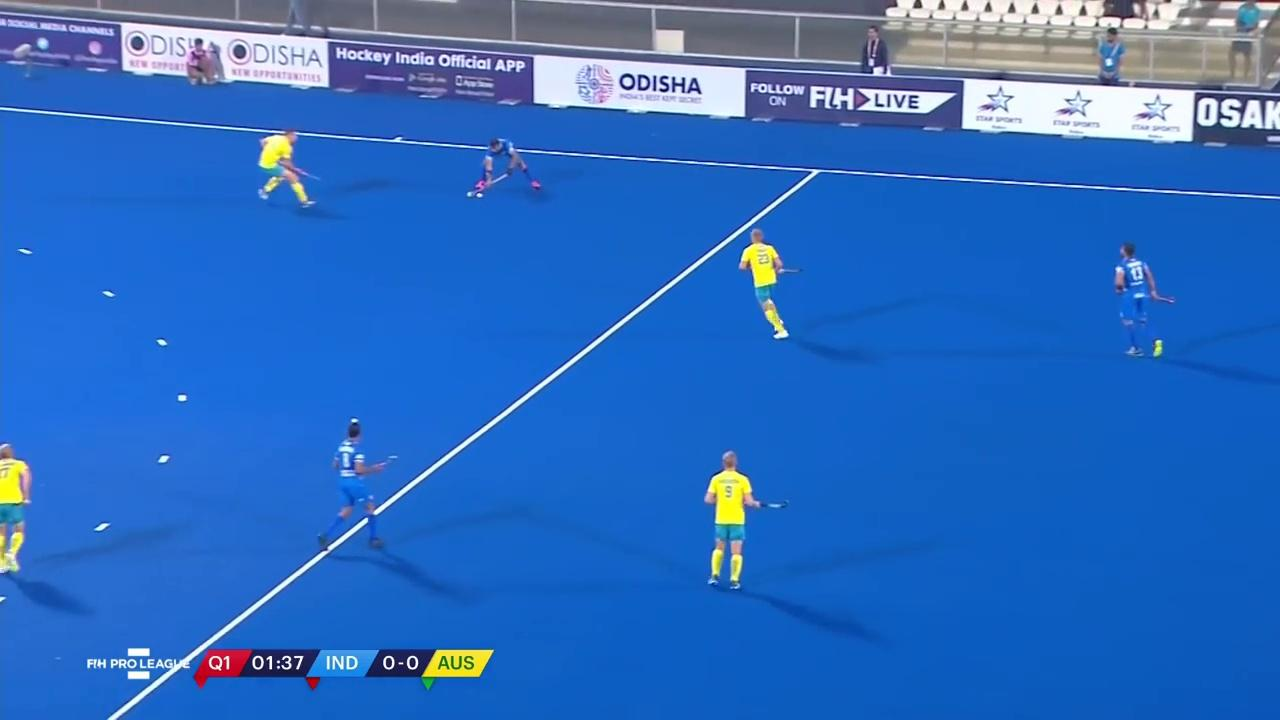ball: (472, 185, 493, 207)
